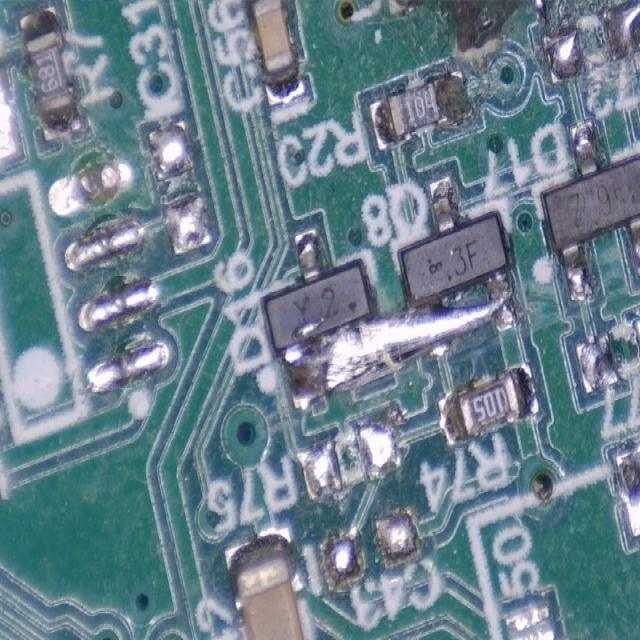Short_circuit: (282, 289, 512, 399)
